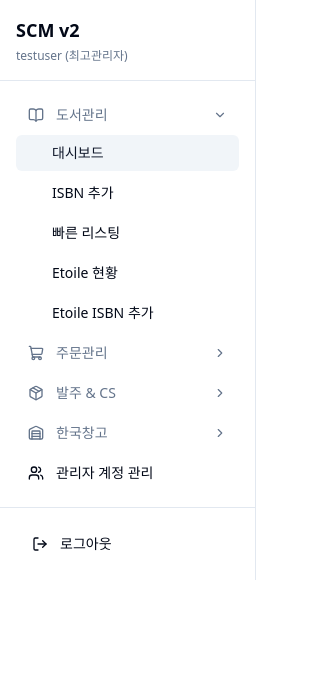
Test: Sidebar › SPEC-ORDER-013 REQ-RACK-008: 렉번호 관리 내비게이션 항목 › "렉번호 관리" 링크가 /rack-number 경로로 렌더링된다
Click the button "한국창고" at (128, 433), box [16,415,239,451]
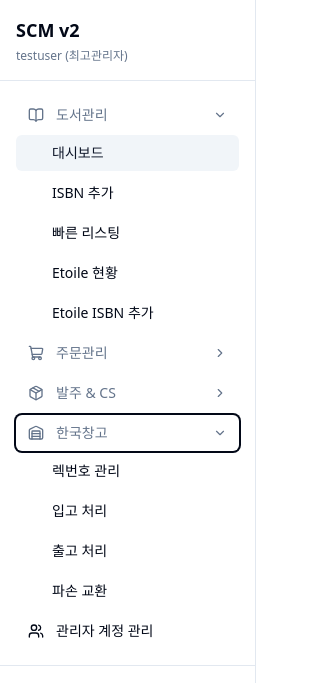
Now the link "렉번호 관리" is shown, box [52,461,120,480]
